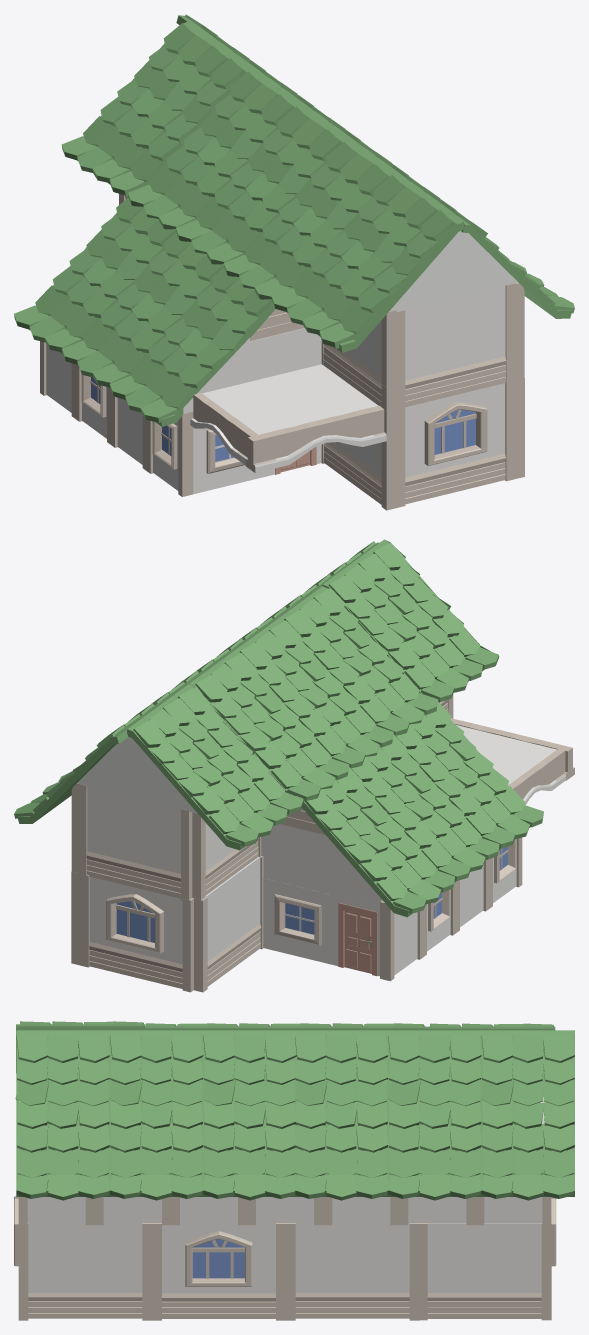
The model's file is House_01.fbx.
3 views of the same model, one above another, from view 1: azimuth 30°, elevation 25°; view 2: azimuth 150°, elevation 25°; view 3: azimuth 270°, elevation 25° (orthographic). The views are drawn at different scales.
Visible parts, largest first — view 1: House_01; view 2: House_01; view 3: House_01.
Part boxes in pixels (x1,y1,x2,y2): House_01: [14, 14, 574, 510]; House_01: [14, 539, 574, 992]; House_01: [14, 1021, 574, 1320].
Bounding box in the file's own units: 1516 × 1089 × 2085.
